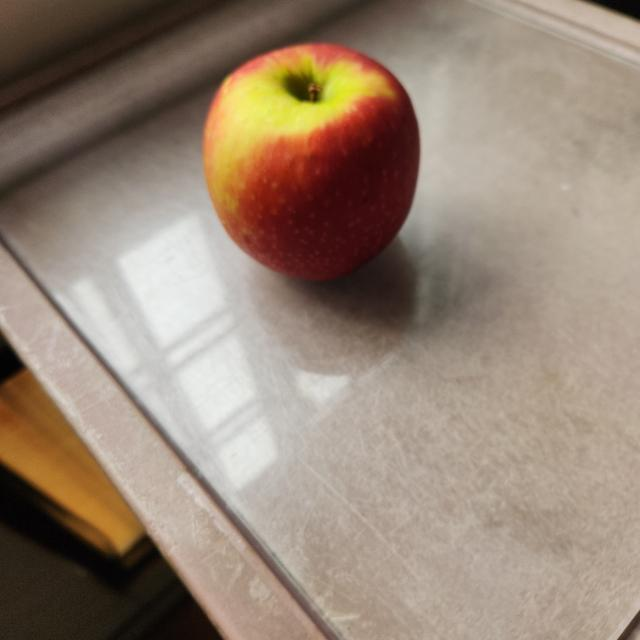apple: (194, 35, 426, 298)
